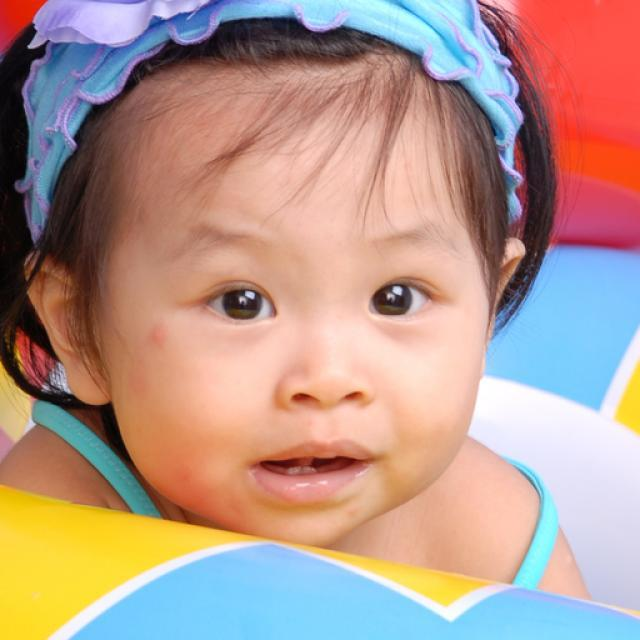surprise: (101, 81, 486, 542)
